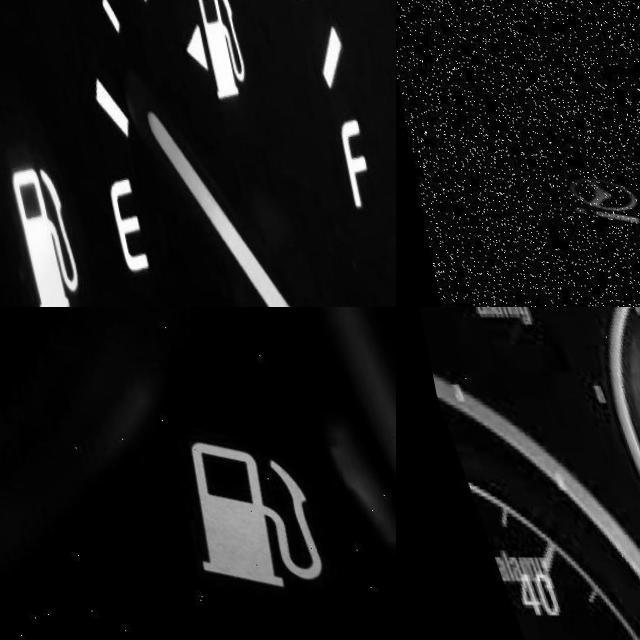Electronic Power Steering: (543, 153, 640, 240)
